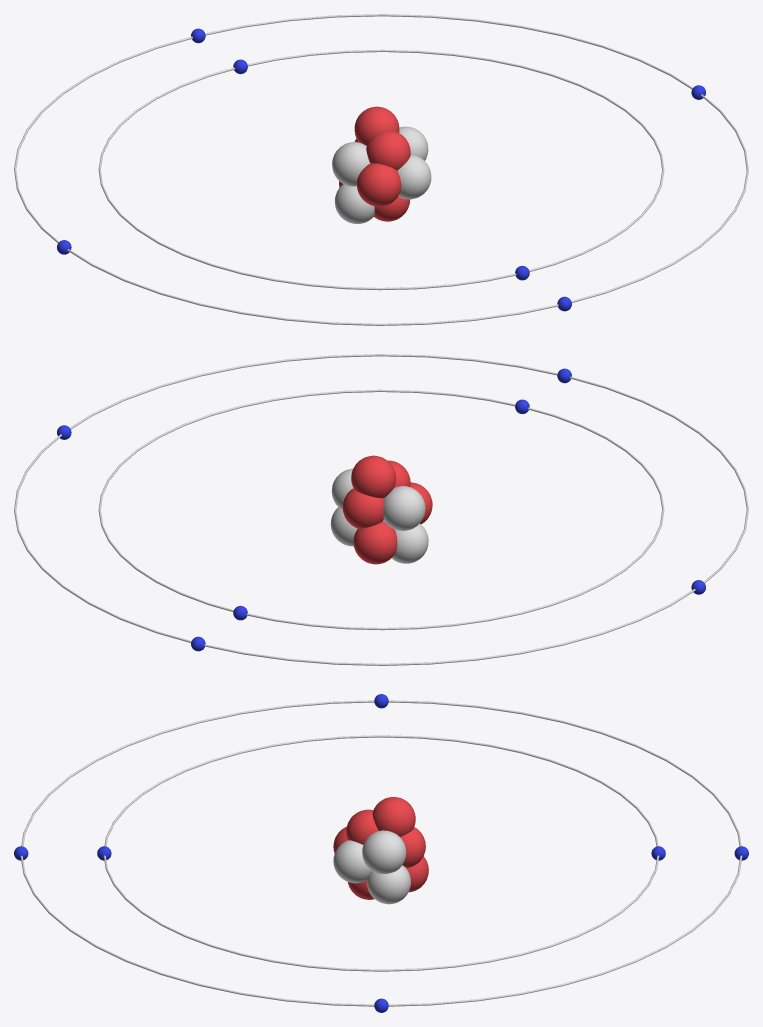
File: Kohlenstoff.glb
The picture shows the model from 3 angles, top to bottom: view 1: azimuth 30°, elevation 25°; view 2: azimuth 150°, elevation 25°; view 3: azimuth 270°, elevation 25°; orthographic projection.
Parts seen in each view (by area): view 1: L-Schale, K-Schale, Proton 1, Proton 2, Neutron 2, Proton 6, Neutron 4, Neutron 3, Proton 3, Neutron 6; view 2: L-Schale, K-Schale, Neutron 2, Proton 6, Proton 4, Proton 5, Neutron 3, Neutron 5, Neutron 6; view 3: L-Schale, K-Schale, Neutron 6, Proton 6, Neutron 5, Neutron 4, Proton 2, Proton 5.
Boxes of the visible parts, left/top/right/bottom form: L-Schale: left=14, top=14, right=748, bottom=325; K-Schale: left=98, top=49, right=664, bottom=290; Proton 1: left=356, top=163, right=401, bottom=206; Proton 2: left=366, top=130, right=410, bottom=170; Neutron 2: left=332, top=142, right=370, bottom=186; Proton 6: left=354, top=106, right=399, bottom=145; Neutron 4: left=397, top=154, right=431, bottom=199; Neutron 3: left=334, top=184, right=374, bottom=223; Proton 3: left=374, top=196, right=410, bottom=221; Neutron 6: left=399, top=126, right=428, bottom=160; L-Schale: left=14, top=354, right=748, bottom=665; K-Schale: left=98, top=389, right=664, bottom=630; Neutron 2: left=383, top=486, right=425, bottom=530; Proton 6: left=351, top=455, right=395, bottom=498; Proton 4: left=353, top=521, right=397, bottom=564; Proton 5: left=342, top=488, right=383, bottom=528; Neutron 3: left=391, top=523, right=428, bottom=563; Neutron 5: left=330, top=507, right=357, bottom=546; Neutron 6: left=331, top=468, right=353, bottom=509; L-Schale: left=20, top=700, right=742, bottom=1006; K-Schale: left=103, top=735, right=659, bottom=971; Neutron 6: left=362, top=830, right=406, bottom=873; Proton 6: left=372, top=797, right=415, bottom=836; Neutron 5: left=367, top=865, right=410, bottom=904; Neutron 4: left=333, top=840, right=371, bottom=883; Proton 2: left=346, top=809, right=378, bottom=844; Proton 5: left=400, top=827, right=425, bottom=868.
Bounding box in the file's own units: 13.26 × 2 × 13.26.
